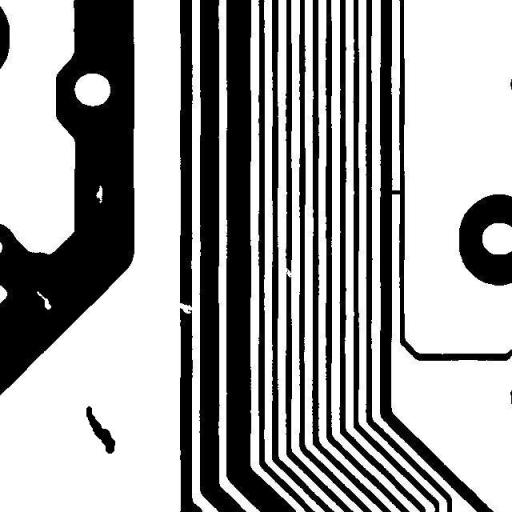copper: (78, 398, 122, 461)
open: (169, 294, 200, 321), (276, 259, 300, 285)
pin-hole: (29, 283, 58, 317), (88, 178, 110, 210)
short: (383, 182, 409, 202)
